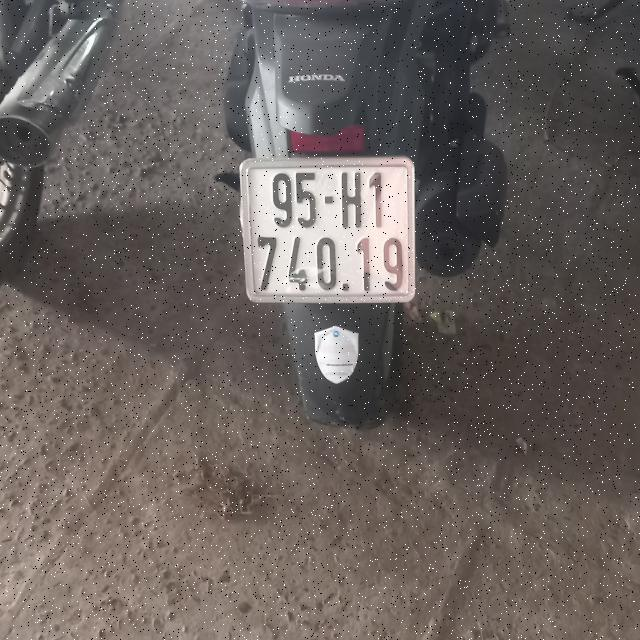0: (317, 238, 336, 290)
1: (356, 238, 370, 291), (369, 171, 382, 228)
4: (288, 237, 308, 291)
5: (296, 172, 316, 227)
7: (256, 236, 277, 291)
9: (383, 237, 403, 292), (273, 173, 292, 226)
H: (342, 172, 362, 227)
